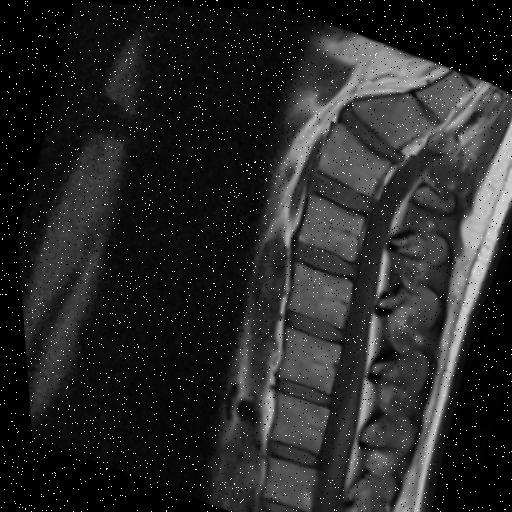L1: (265, 390, 323, 450)
L2: (273, 324, 335, 388)
L3: (282, 260, 348, 325)
L4: (295, 192, 361, 257)
L5: (315, 120, 387, 193)
S1: (350, 90, 430, 146)
